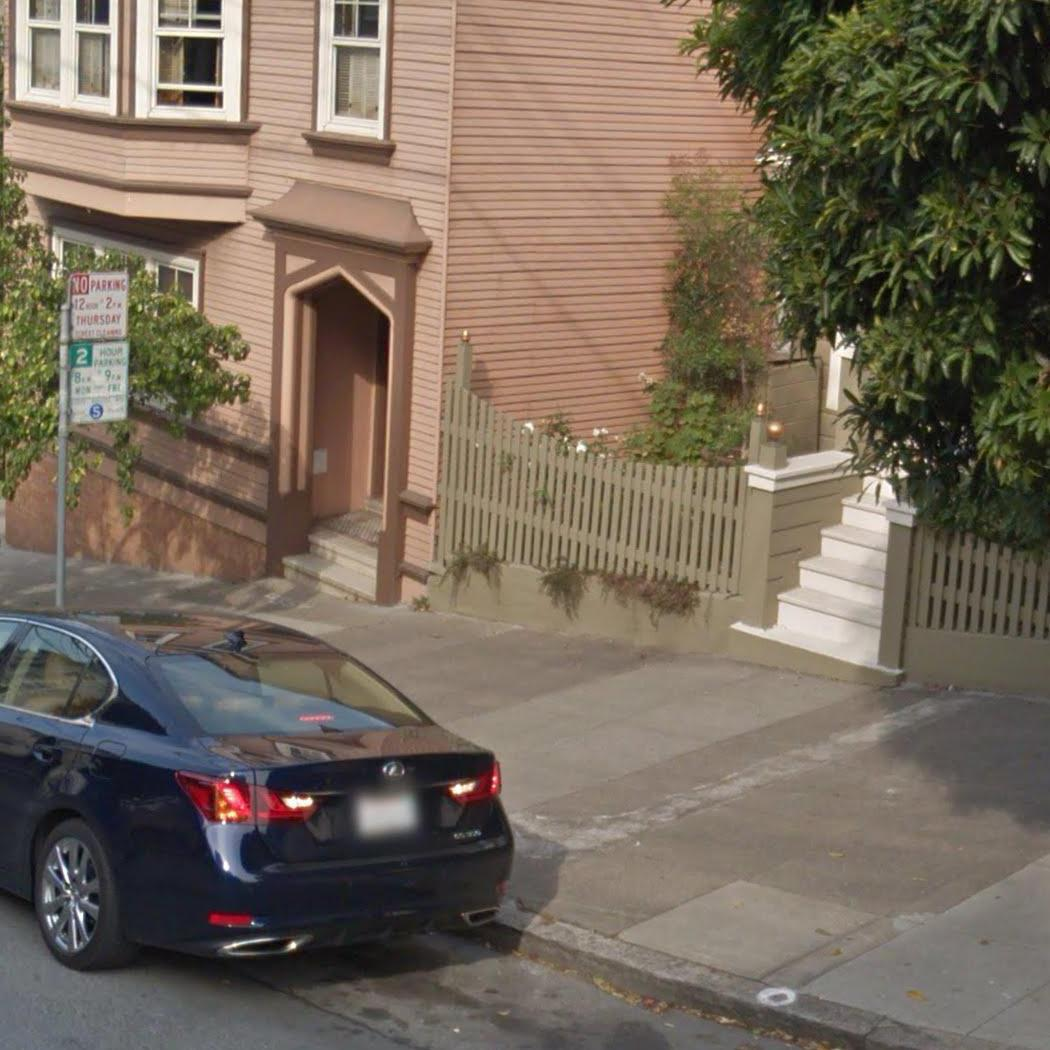2 Hour Parking: (67, 342, 132, 425)
No Parking: (66, 269, 131, 342)
